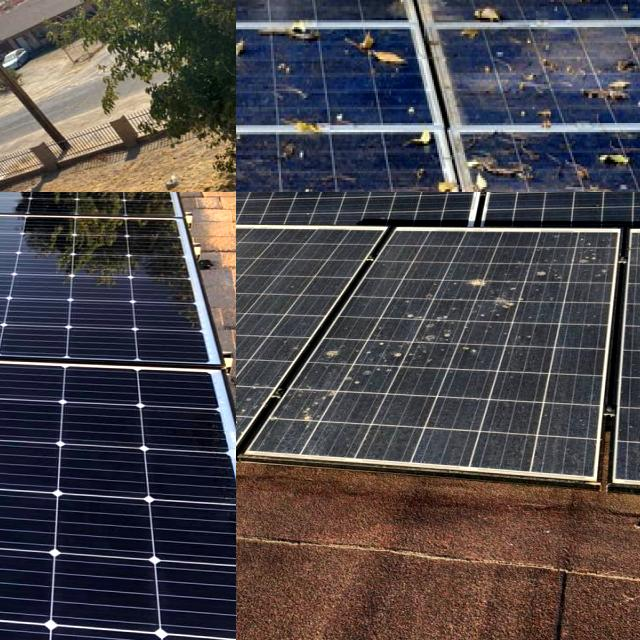crack: (0, 327, 236, 640), (0, 192, 236, 387), (0, 192, 236, 251)
dust: (308, 284, 469, 412), (494, 234, 610, 328), (236, 376, 284, 444)
